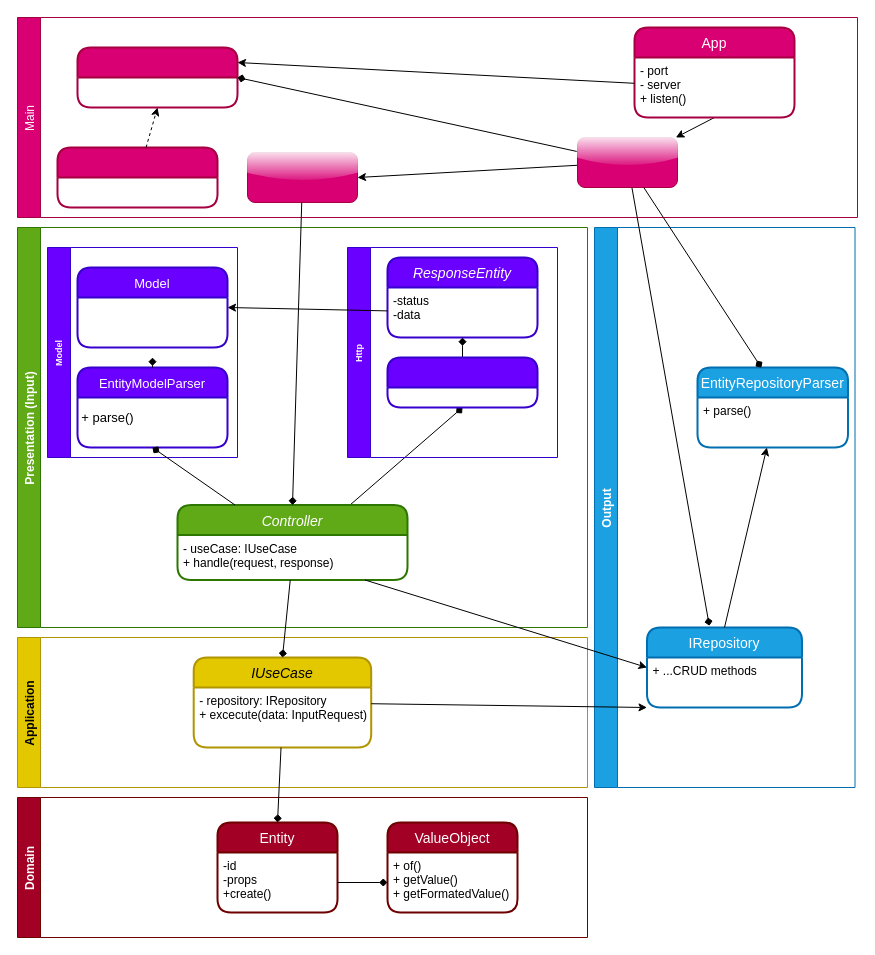
The diagram is 875 pixels wide and 955 high, and some of its shapes have lost their labels. Each missing label, with the centre of its shape:
Config: the point at 627,162
ExpressServerAdapter: the point at 137,177
IServer: the point at 157,77
ResponseFactory: the point at 462,382
Routes: the point at 302,177
